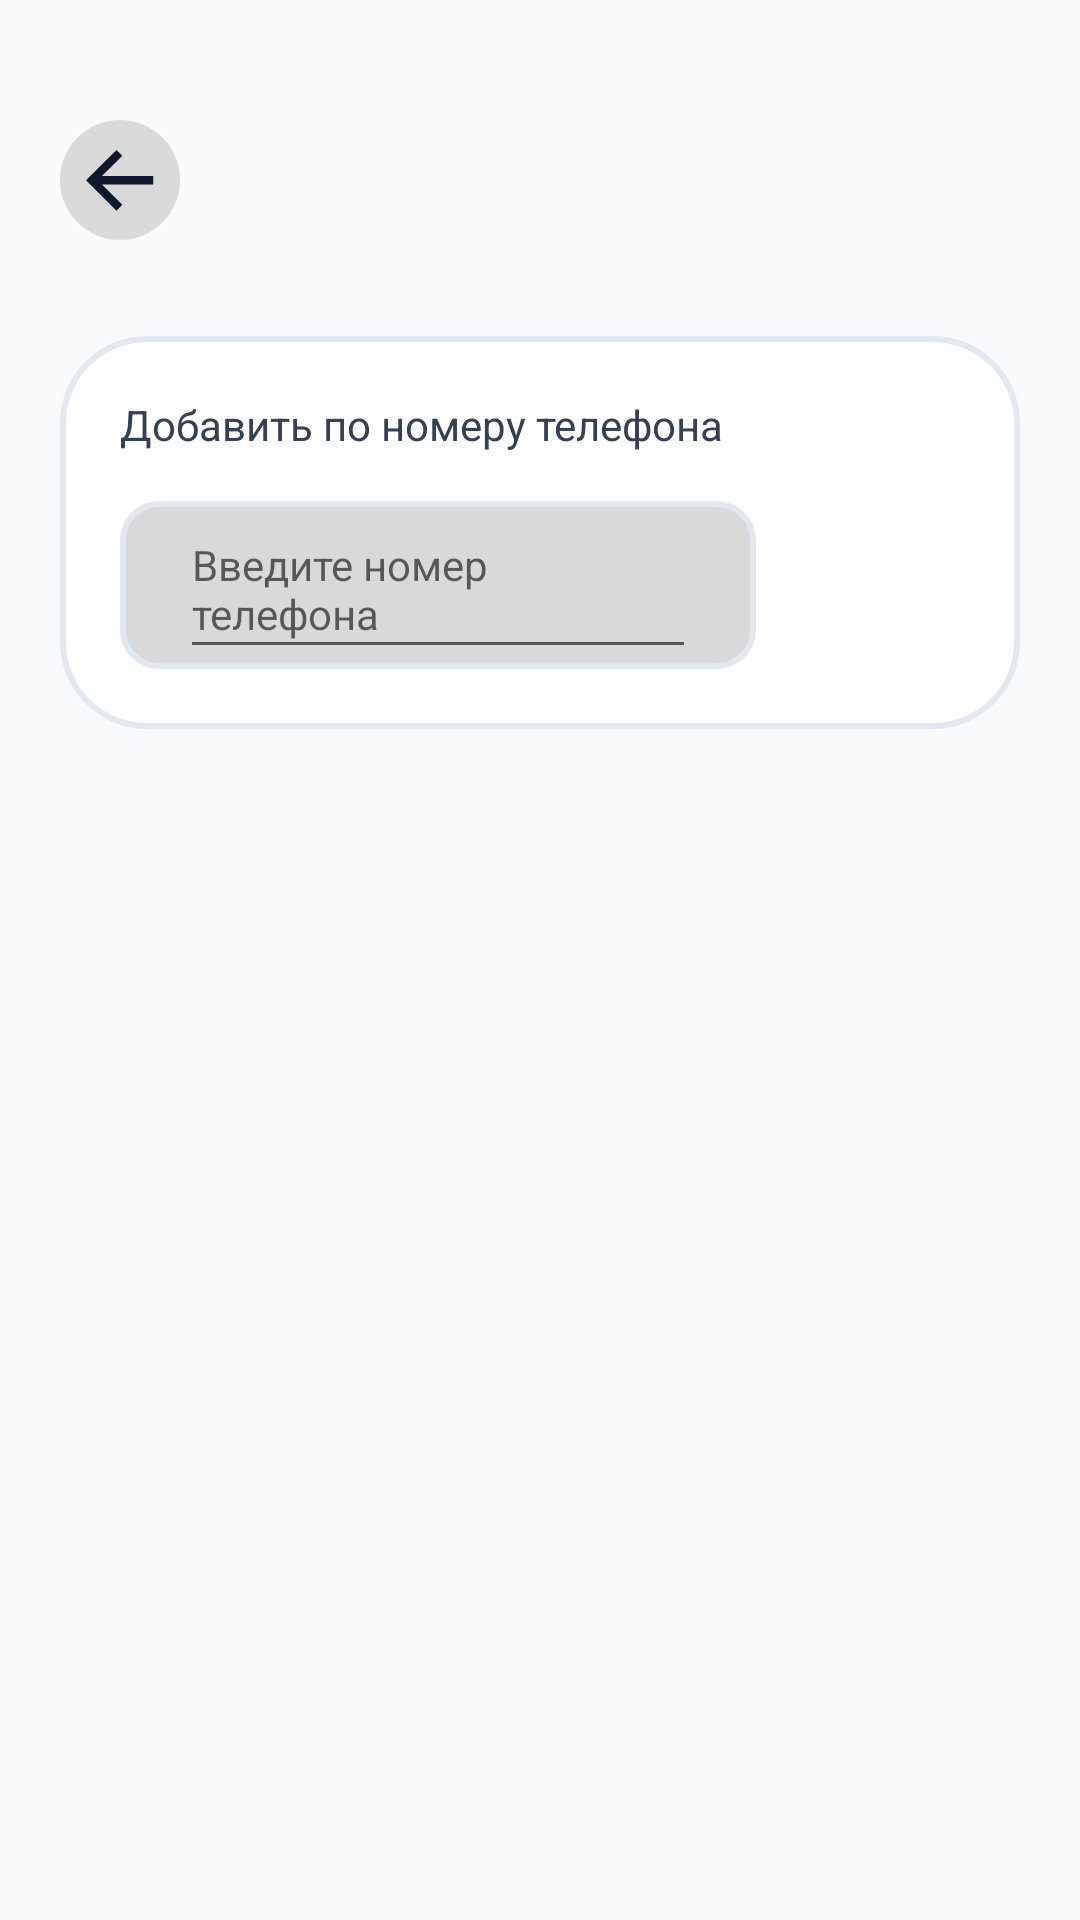

Named icons in this screenshot (1080×1920) and their bounding boxes, (x1, y1, x2, y2):
arrow back: (60, 120, 180, 240)
